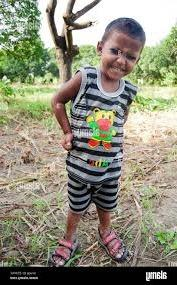Human: (54, 13, 154, 264)
